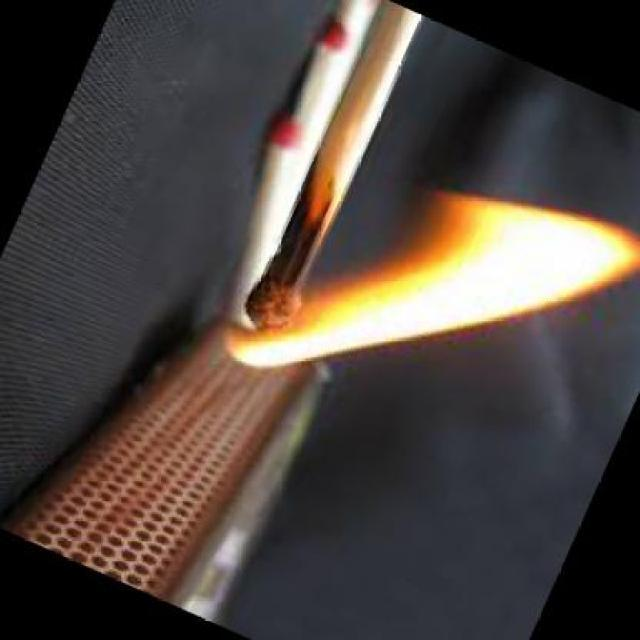Fire: (192, 197, 640, 380)
